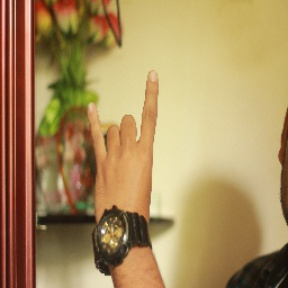V: (84, 65, 170, 222)
